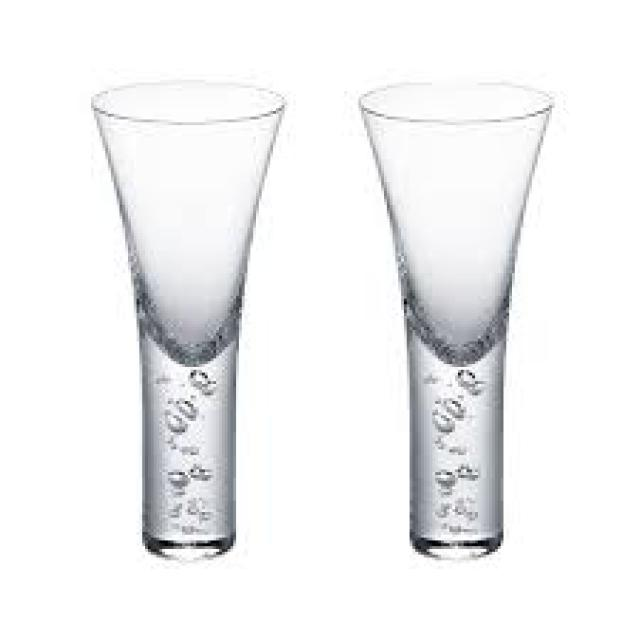glass: (356, 77, 549, 555), (91, 80, 282, 555)
